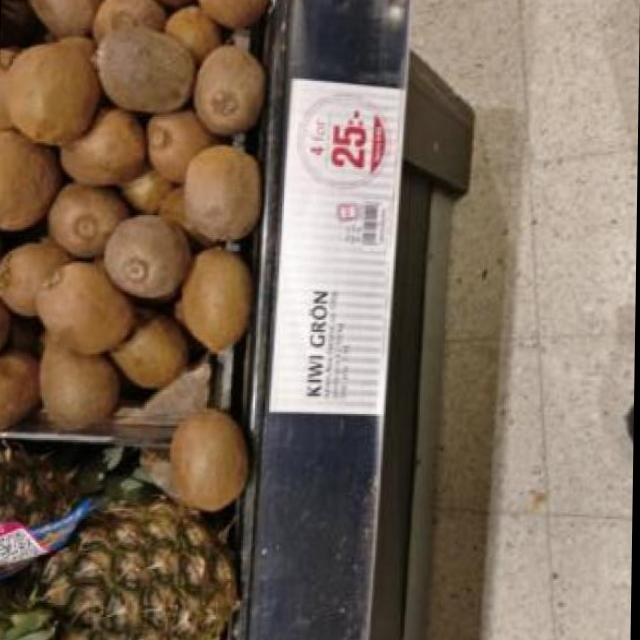Pineapple: (0, 517, 256, 640)
